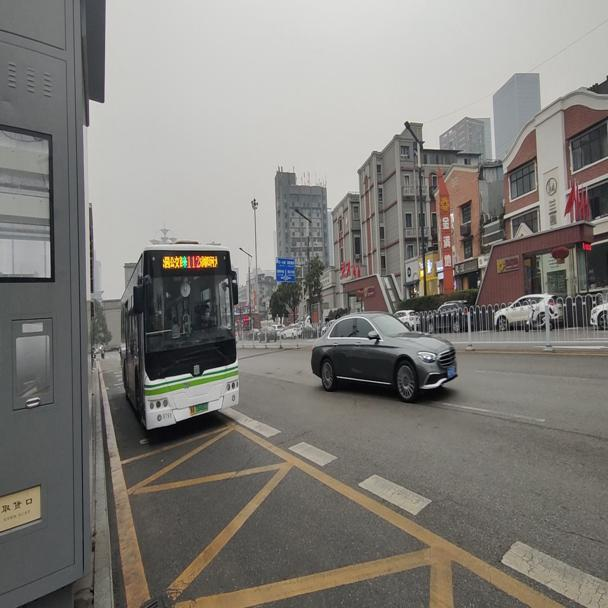bus: (118, 238, 239, 432)
screen: (185, 253, 200, 270)
